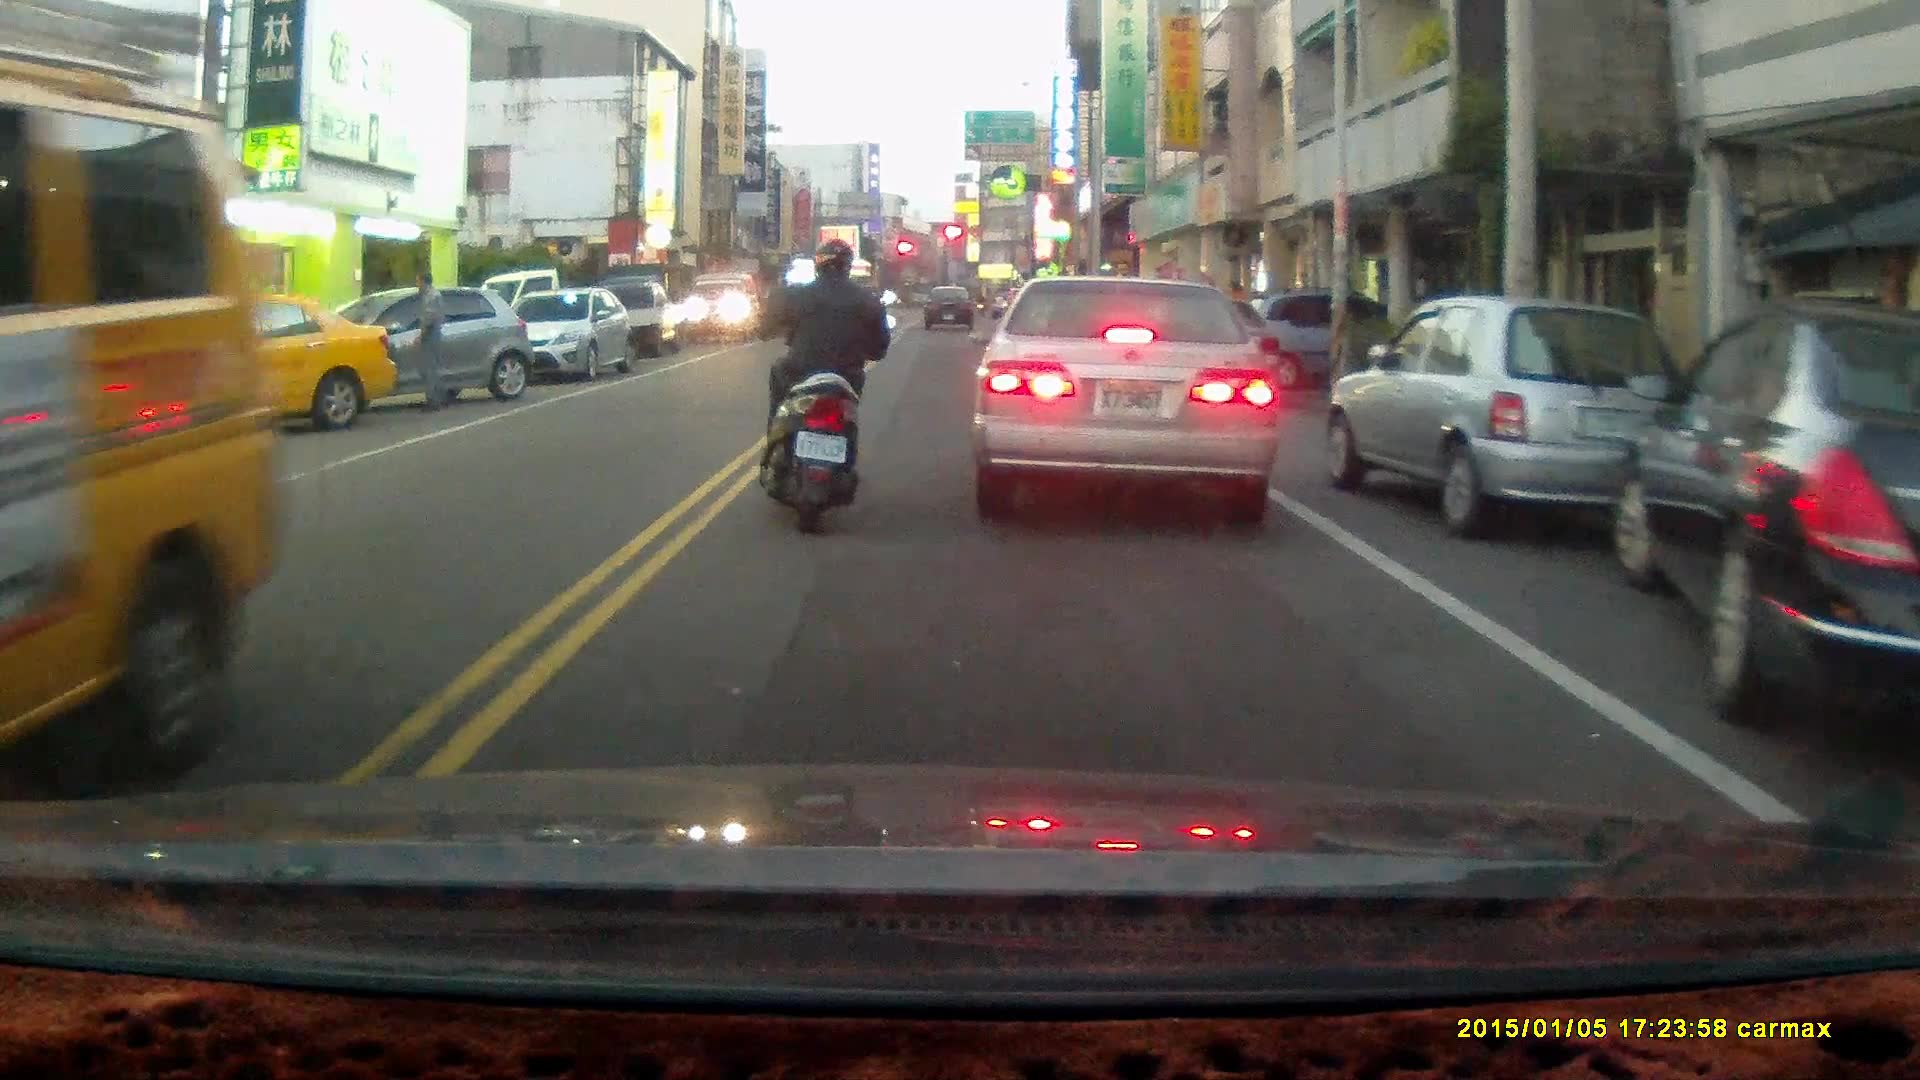pedestrian: (404, 270, 451, 416)
rider: (760, 237, 902, 539)
vehicle: (1, 26, 279, 799), (1607, 295, 1920, 744), (1324, 296, 1682, 540), (970, 272, 1282, 520), (44, 296, 408, 460), (312, 281, 530, 408), (512, 286, 638, 386), (681, 272, 767, 341)
